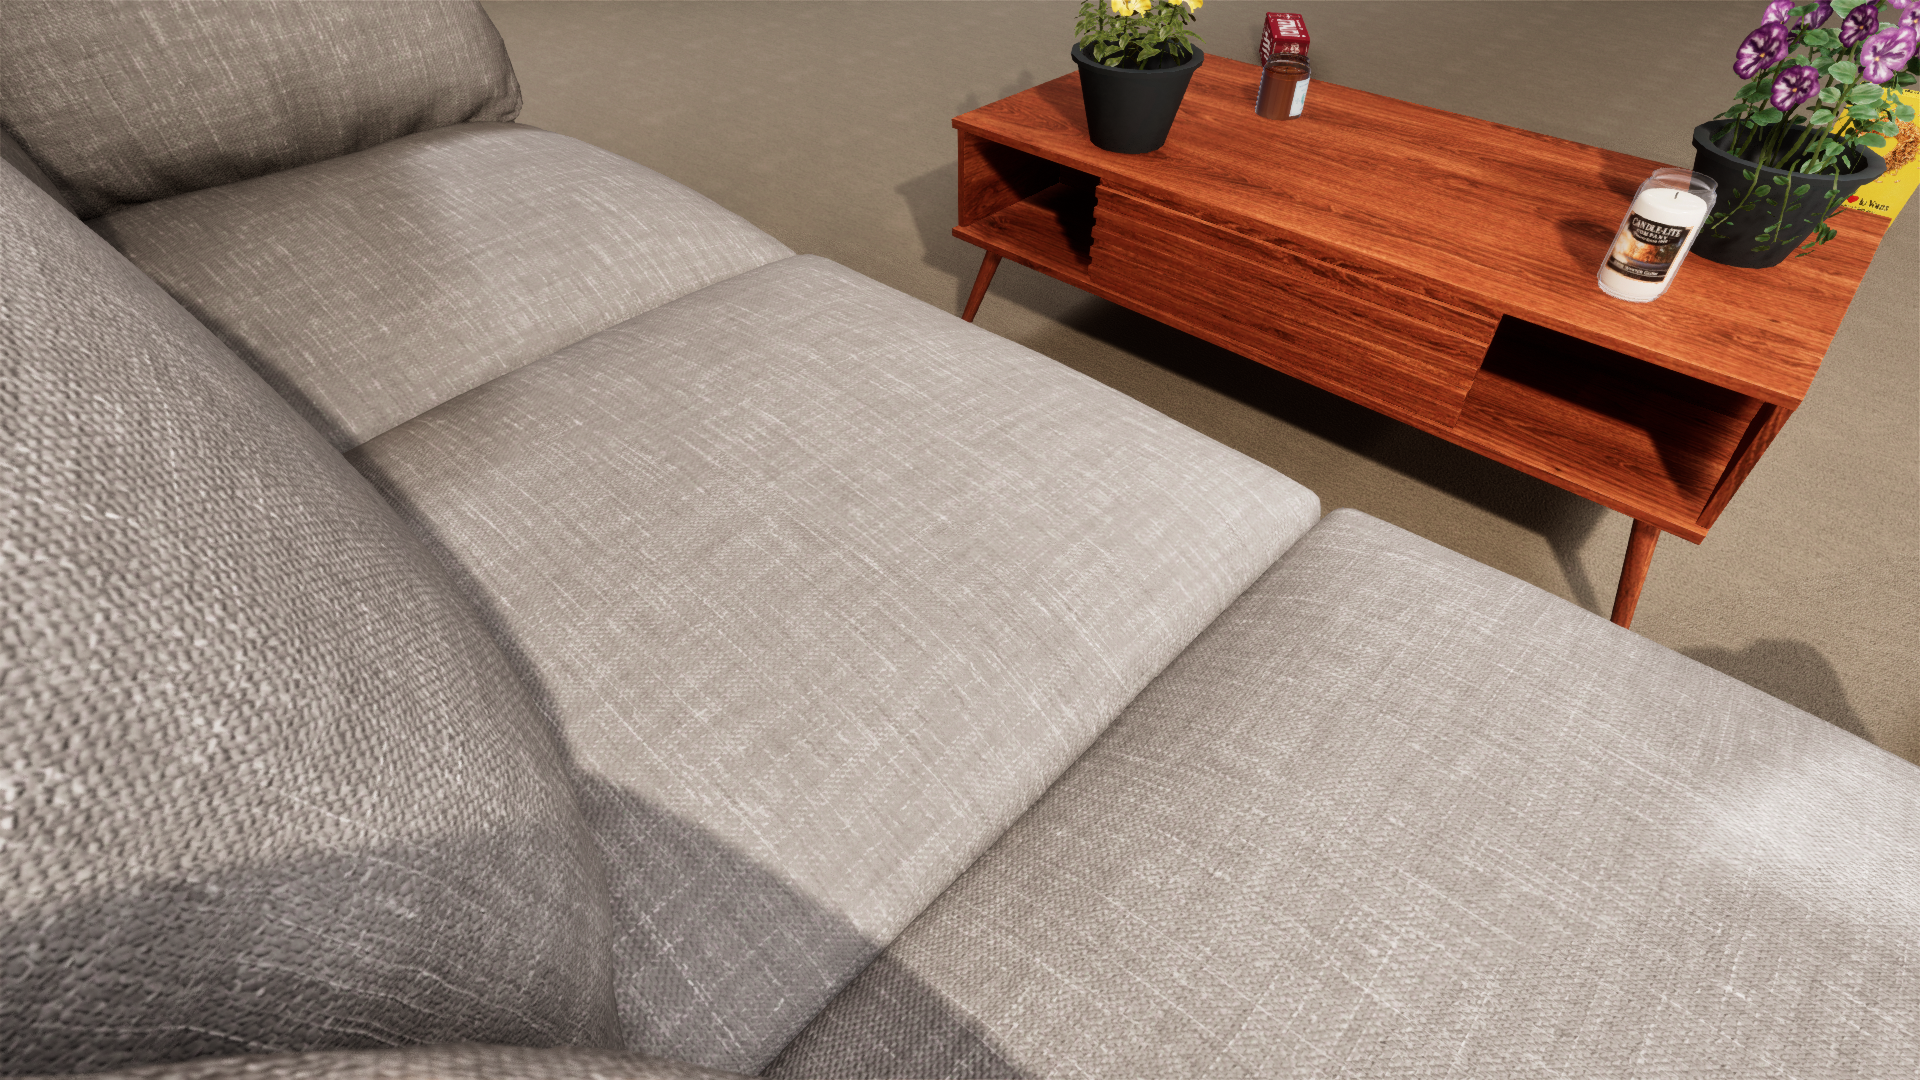cheerios: (5, 647, 442, 920)
soup: (105, 132, 211, 241)
